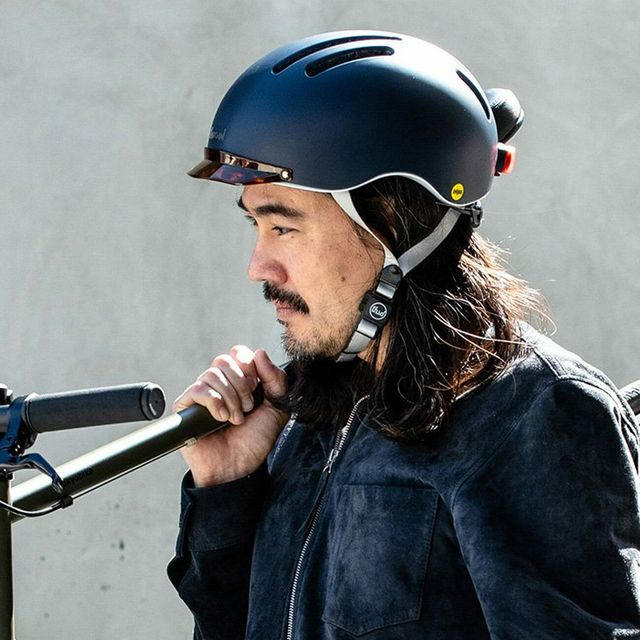helmet: (186, 29, 498, 359)
